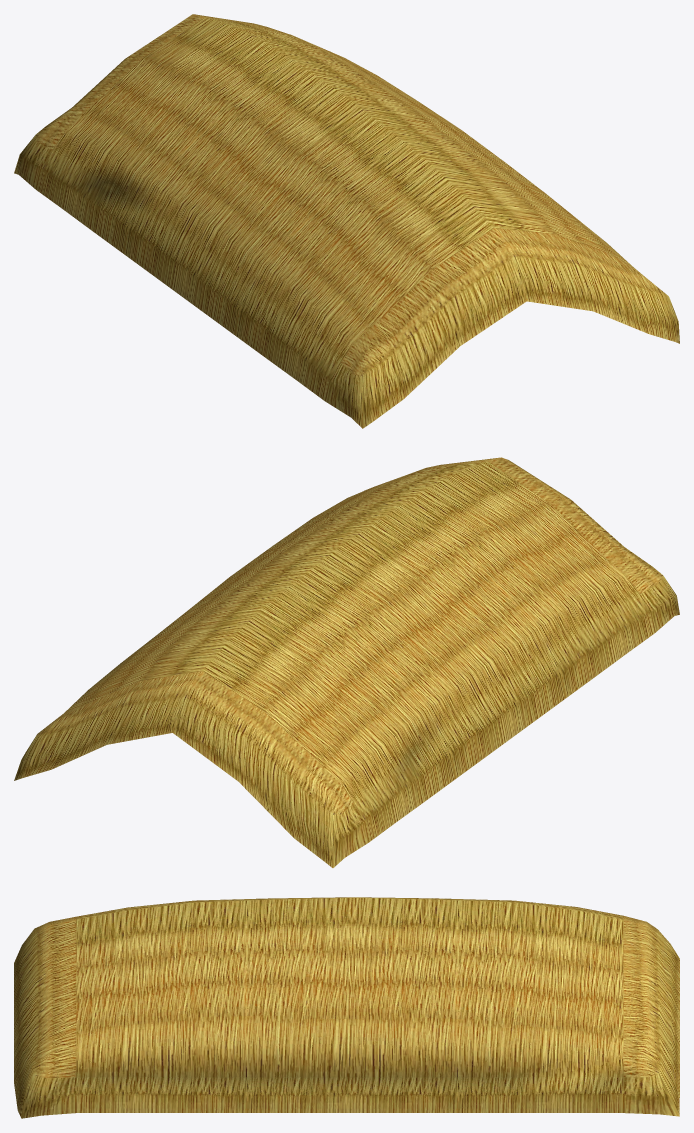
File: HTOWN01_MILLROOF01.fbx
3 views of the same model, one above another, from view 1: azimuth 30°, elevation 25°; view 2: azimuth 150°, elevation 25°; view 3: azimuth 270°, elevation 25° (orthographic). The views are drawn at different scales.
Visible parts, largest first — view 1: HTOWN01_MILLROOF01; view 2: HTOWN01_MILLROOF01; view 3: HTOWN01_MILLROOF01.
Part boxes in pixels (x1,y1,x2,y2): HTOWN01_MILLROOF01: (14,14,679,428); HTOWN01_MILLROOF01: (14,457,679,867); HTOWN01_MILLROOF01: (14,897,679,1118).
Bounding box in the file's own units: 77046 × 35812 × 140662.
4 materials, 4 textured.
